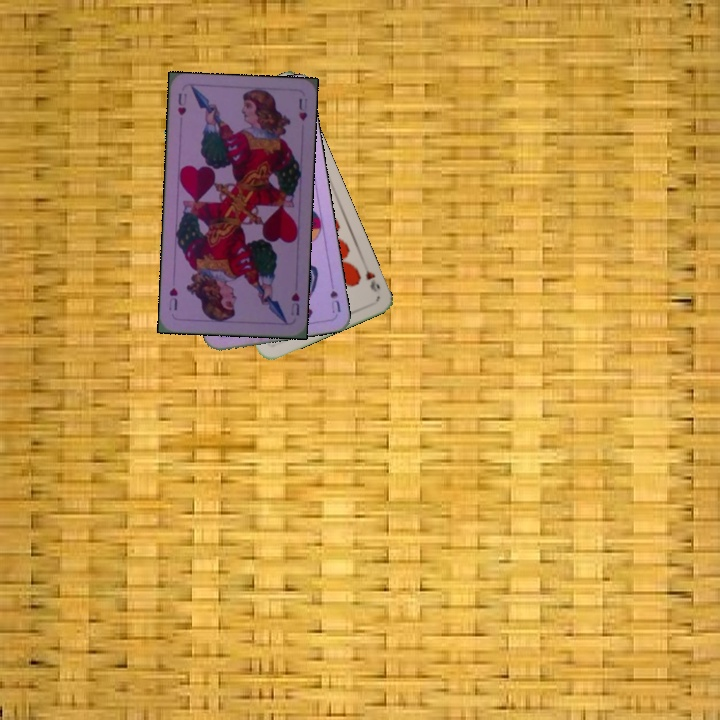H9: (359, 259, 383, 294)
HU: (287, 288, 302, 318), (174, 89, 189, 118)
SU: (326, 275, 343, 315)
